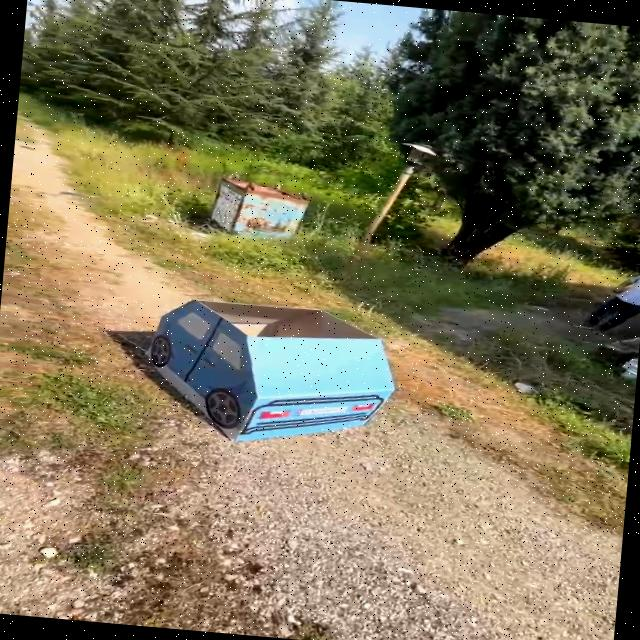blue_car: (113, 277, 415, 465)
